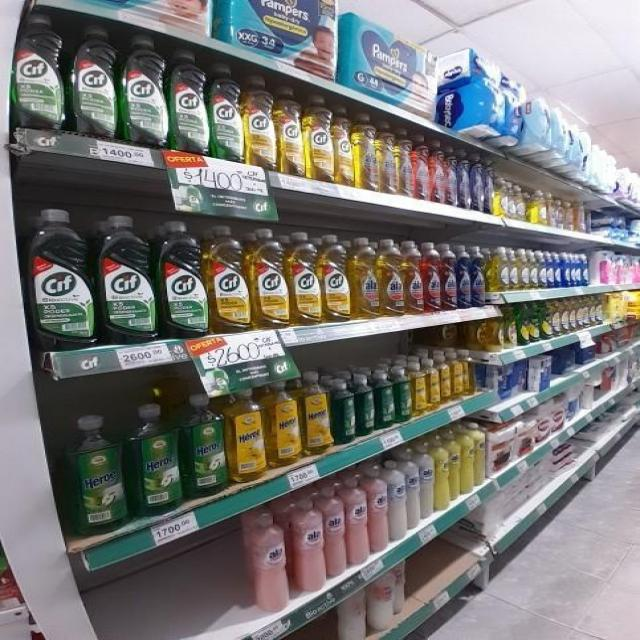ala_conc_amarillo: (351, 237, 378, 319), (379, 239, 403, 317), (356, 118, 378, 192), (404, 241, 423, 315)
ala_conc_azul: (472, 246, 486, 308), (458, 246, 471, 309)
ala_conc_rojo: (424, 242, 441, 313), (441, 244, 457, 311), (414, 139, 430, 201), (430, 143, 446, 203), (399, 134, 412, 198)
ala_crem_amarillo: (435, 433, 449, 511), (461, 422, 474, 495), (474, 422, 486, 489), (450, 426, 460, 502)
ala_crem_blanco: (389, 460, 406, 544), (420, 440, 433, 522), (407, 450, 420, 532)
ala_crem_rosado: (249, 509, 289, 614), (292, 494, 324, 595), (326, 483, 346, 580), (348, 475, 368, 566), (368, 466, 388, 555)
cif_conc_bot_amarilla: (208, 224, 249, 334), (250, 228, 288, 330), (243, 75, 276, 170), (290, 231, 320, 327), (304, 94, 333, 182), (322, 234, 350, 323), (277, 85, 303, 177), (334, 110, 352, 187)
cif_conc_botella_verde: (28, 208, 95, 350), (98, 214, 156, 344), (12, 12, 66, 132), (158, 220, 206, 339), (70, 23, 118, 139), (121, 34, 167, 149), (169, 47, 207, 155), (210, 64, 242, 163)
